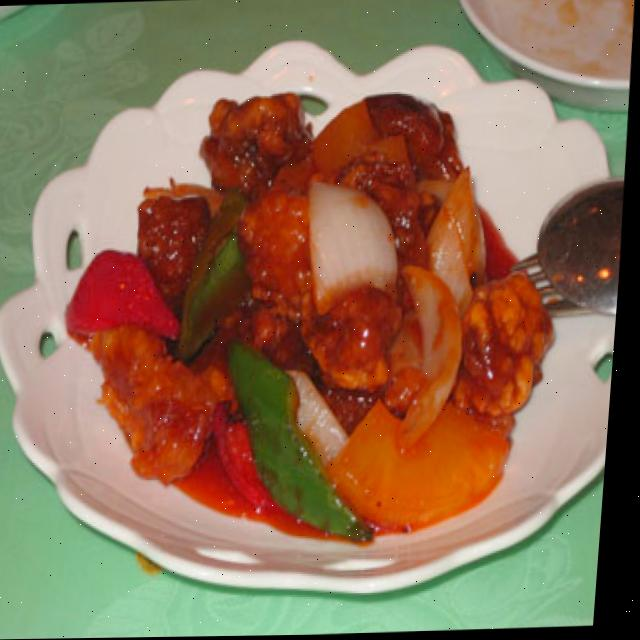猪肉菜式: (46, 77, 576, 558)
